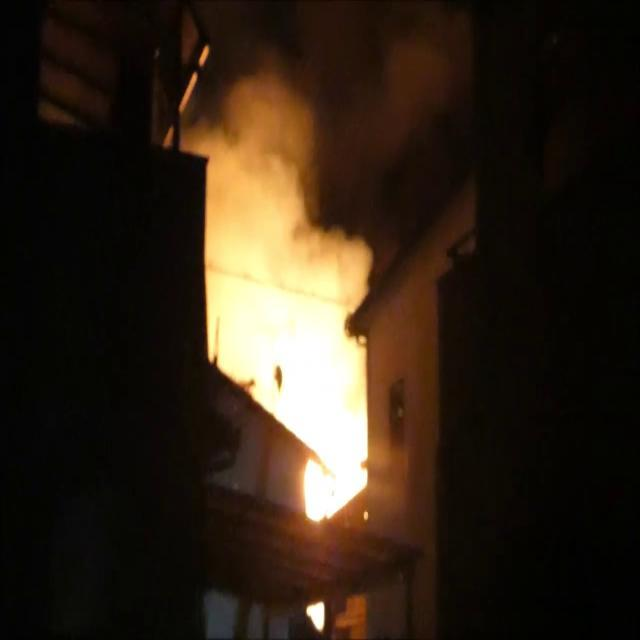Fire: (262, 263, 376, 522)
Smoke: (197, 0, 460, 302)
